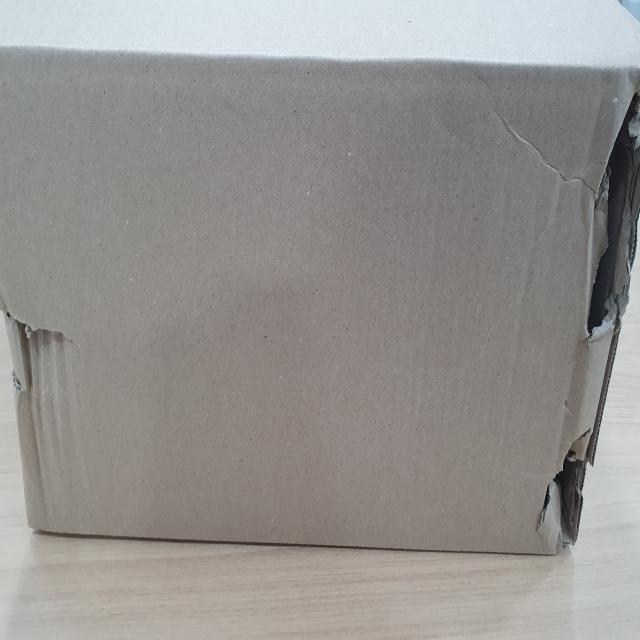hole: (9, 298, 95, 470), (584, 76, 640, 331), (534, 429, 600, 551)
